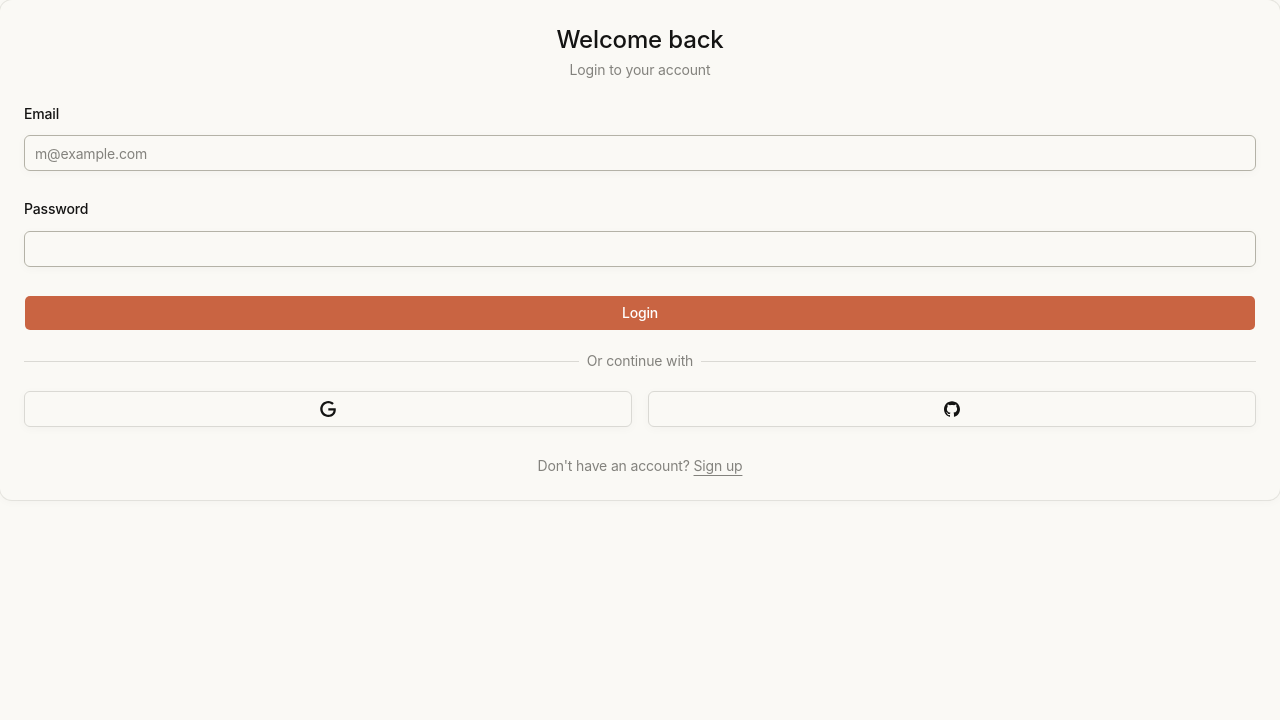
Test case: LoginForm › error handling › should show API error message when login fails
When the user fills in wrong credentials and clicks Login
Step 1. Type "bad@example.com" into the field labelled "Email" → [640, 153], box [24, 135, 1256, 171]
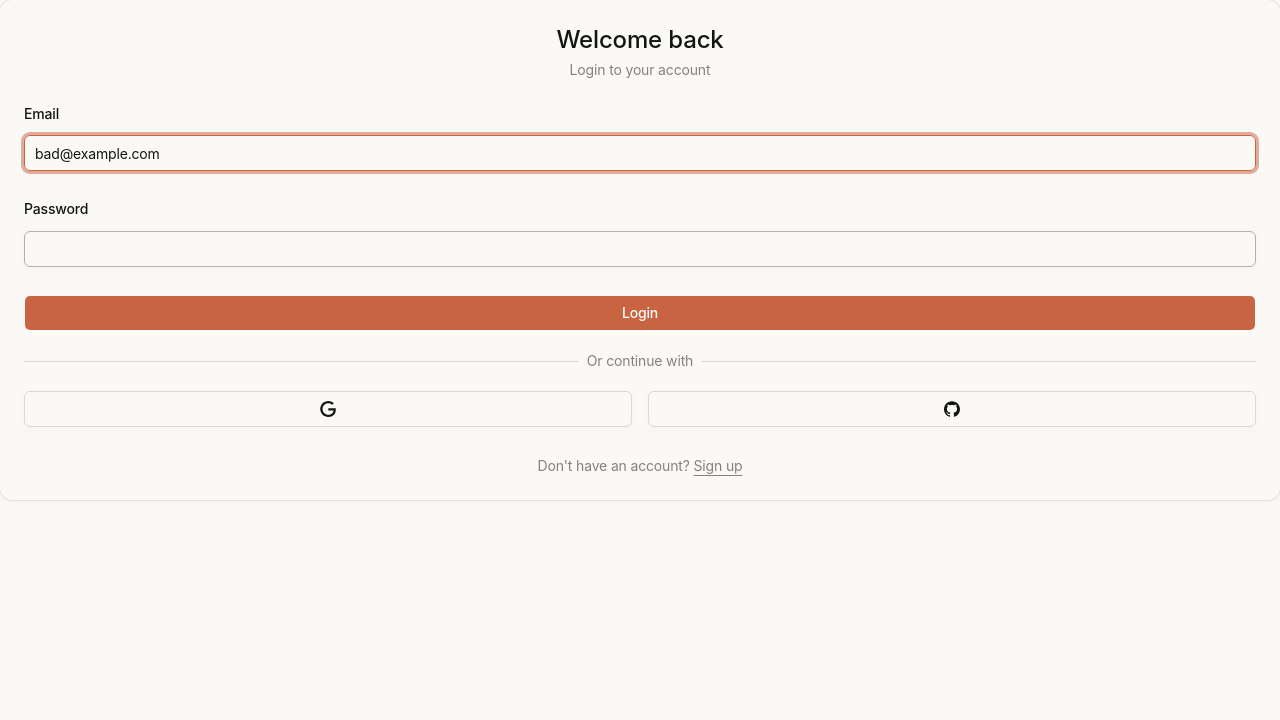
Step 2. Type "wrong" into the password field labelled "Password" → [640, 248], box [24, 230, 1256, 266]
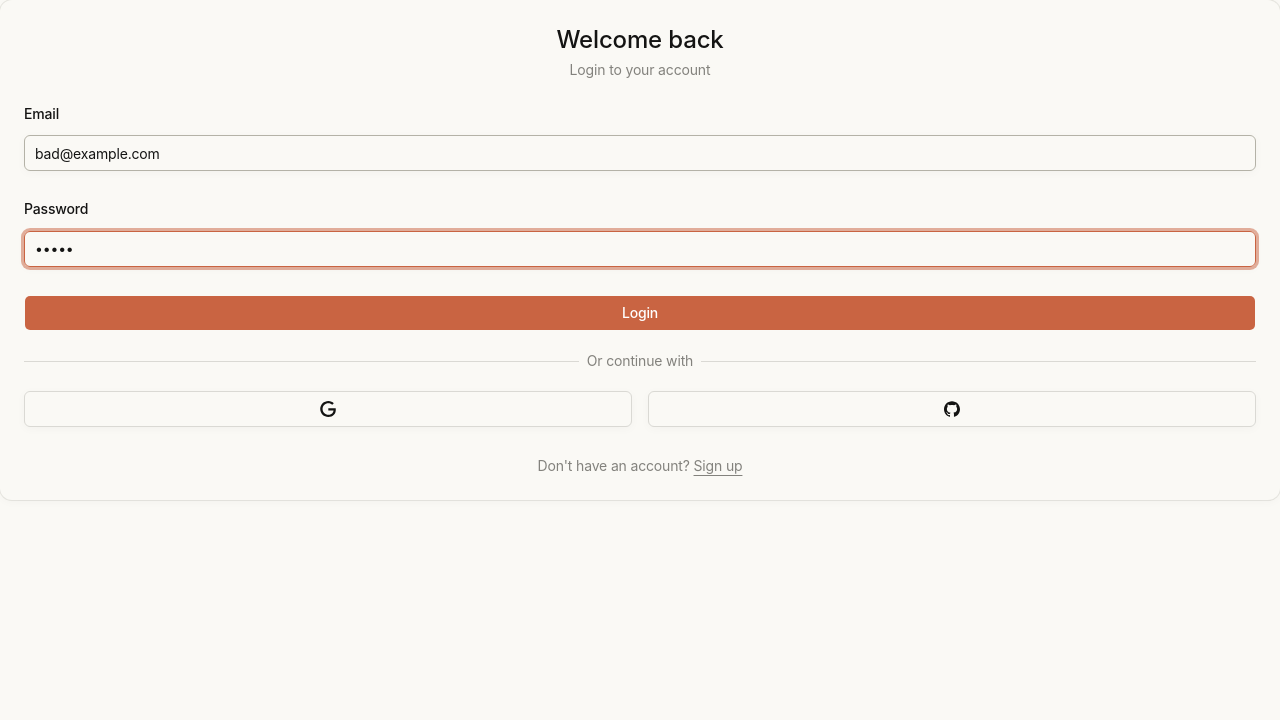
Step 3. Click the button "Login" → [640, 312], box [24, 294, 1256, 330]
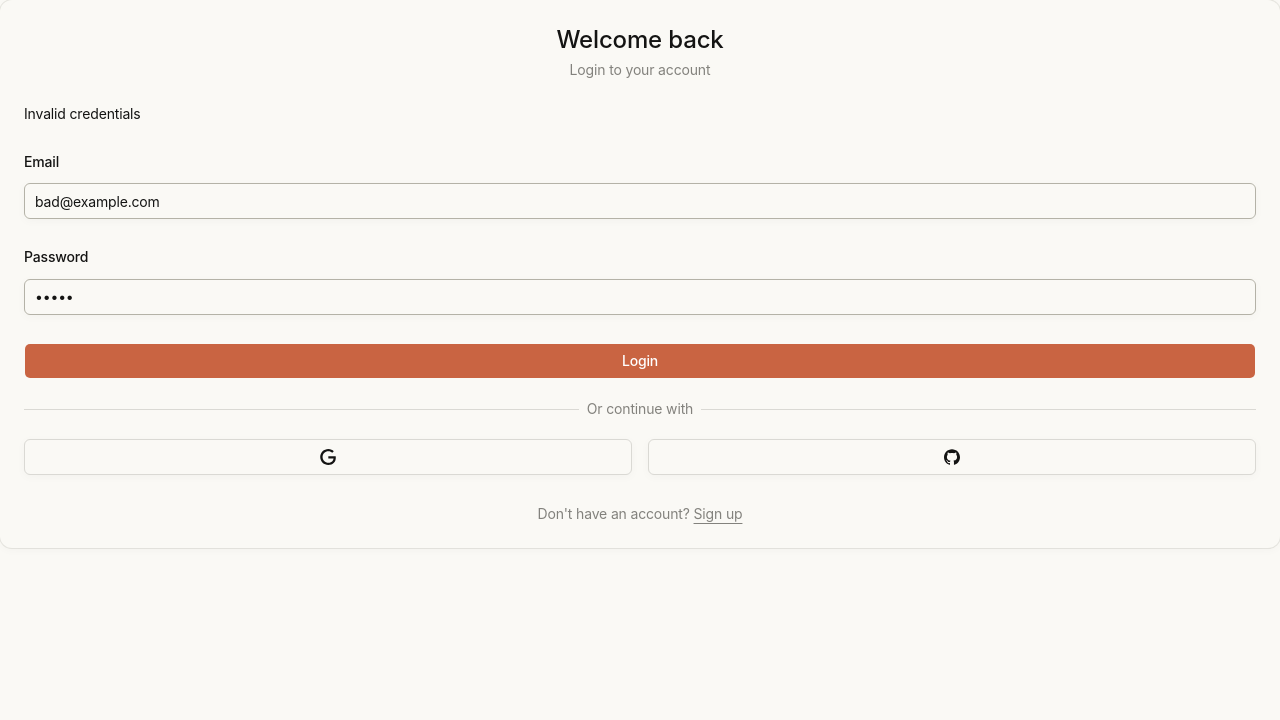
Now the message reads "Invalid credentials", box [24, 105, 141, 122]
